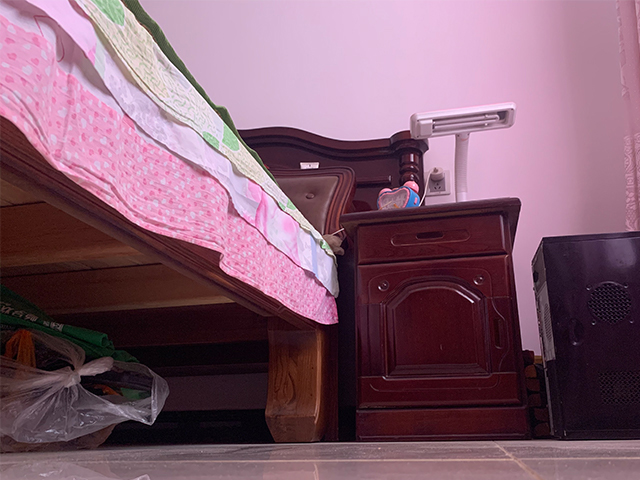bed: (1, 1, 431, 444)
cabinet: (338, 196, 534, 442)
